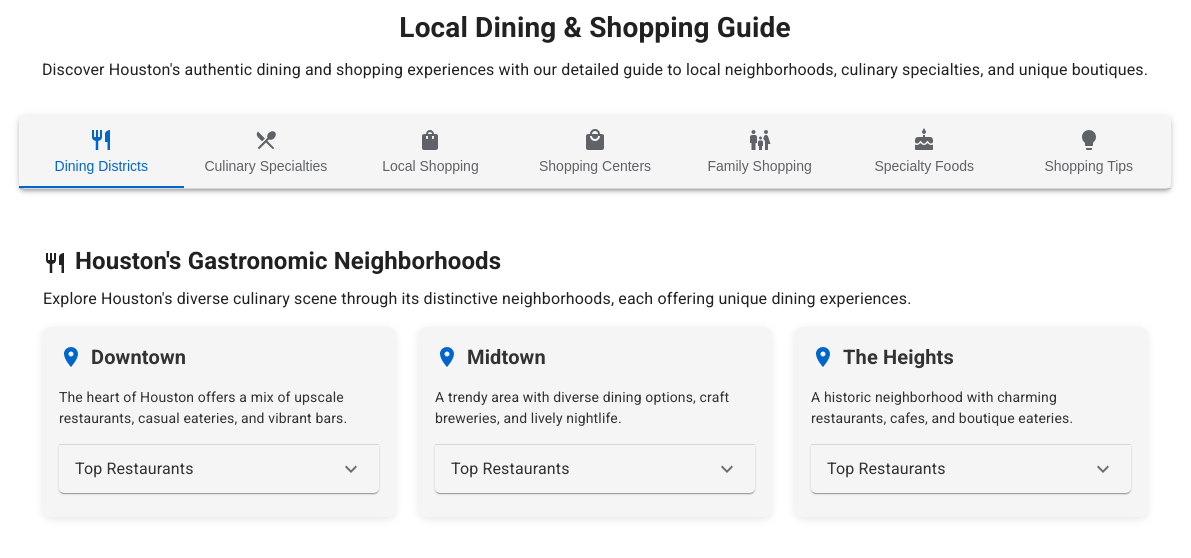
Scenario: LocalDiningShoppingPage › renders culinary specialties information when tab is clicked
Click on the Culinary Specialties tab
Click the tab "Culinary Specialties" at (266, 152), box [184,116,348,188]
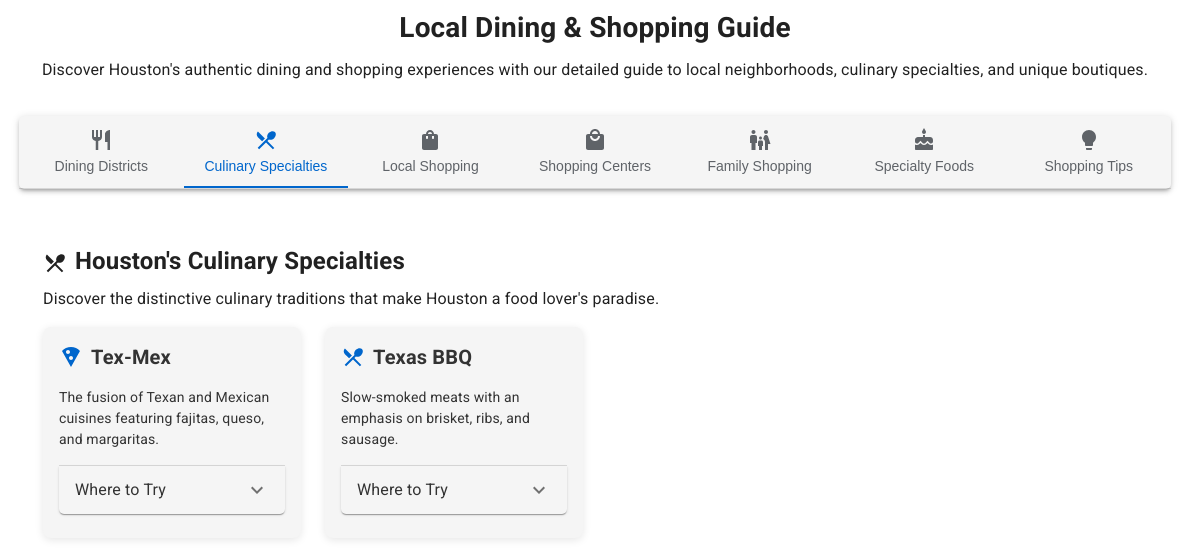
Check: the heading "Tex-Mex" is shown, box [91,343,171,371]
Check: the heading "Texas BBQ" is shown, box [373,343,472,371]
